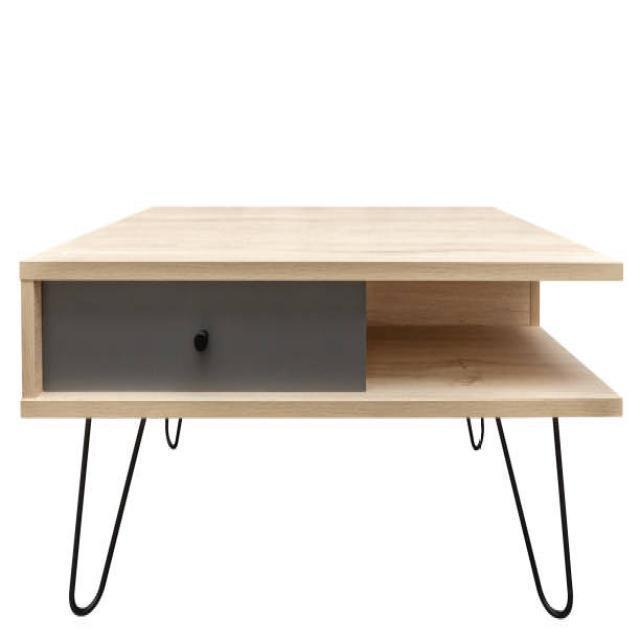table: (18, 202, 624, 620)
